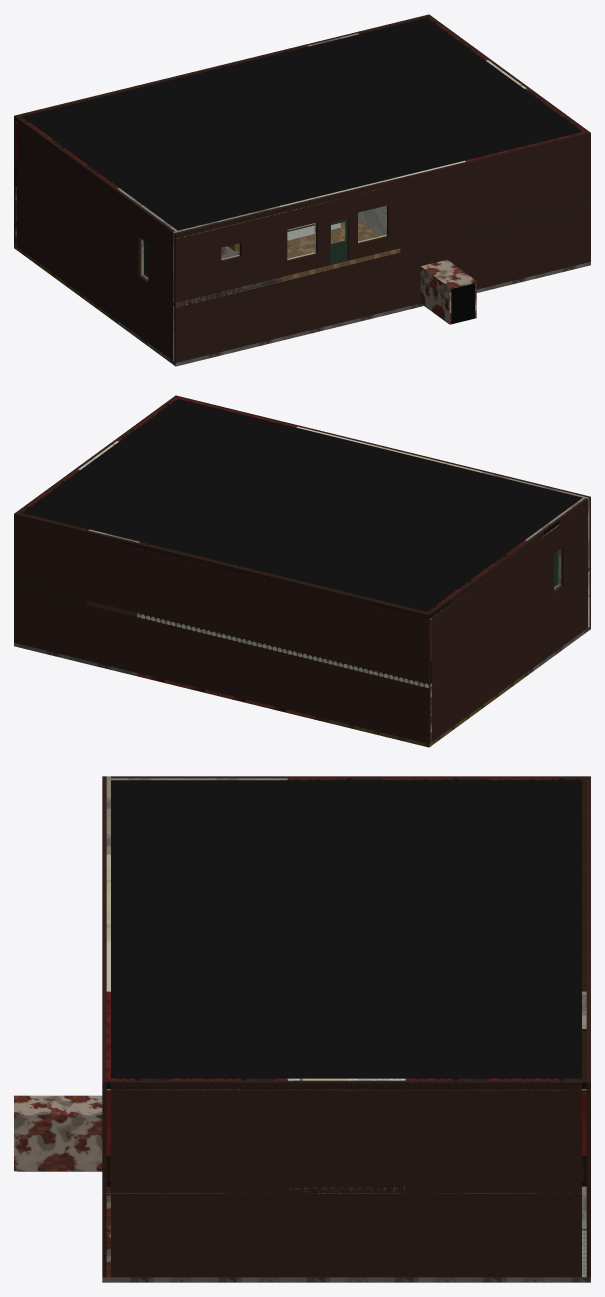
Rendered from abattoir.glb.
3 views of the same model, one above another, from view 1: azimuth 30°, elevation 25°; view 2: azimuth 150°, elevation 25°; view 3: azimuth 270°, elevation 25° (orthographic). The views are drawn at different scales.
Visible parts, largest first — view 1: Mesh_ext, Mesh_roof, Mesh_concrete, Mesh_brick2, Mesh_sp_wall, Mesh_glass13, Mesh_sawdust, Mesh_shop_wall, Mesh_pit, Mesh_lime, Mesh_carpet, Mesh_door; view 2: Mesh_ext, Mesh_roof, Mesh_sp_wall, Mesh_octagon, Mesh_straw, Mesh_concrete, Mesh_lime, Mesh_quarry; view 3: Mesh_roof, Mesh_ext, Mesh_brick2, Mesh_sp_wall, Mesh_concrete, Mesh_lime, Mesh_shop_wall.
Part boxes in pixels (x1,y1,x2,y2): Mesh_ext: (14, 14, 590, 362); Mesh_roof: (15, 18, 582, 236); Mesh_concrete: (114, 240, 590, 366); Mesh_brick2: (420, 259, 476, 324); Mesh_sp_wall: (15, 15, 588, 188); Mesh_glass13: (287, 206, 386, 259); Mesh_sawdust: (282, 219, 400, 281); Mesh_shop_wall: (279, 60, 526, 259); Mesh_pit: (451, 283, 474, 324); Mesh_lime: (117, 33, 358, 301); Mesh_carpet: (467, 201, 590, 235); Mesh_door: (330, 218, 347, 263); Mesh_ext: (14, 395, 590, 743); Mesh_roof: (22, 399, 590, 618); Mesh_sp_wall: (16, 396, 526, 682); Mesh_octagon: (137, 613, 431, 688); Mesh_straw: (323, 671, 529, 747); Mesh_concrete: (14, 563, 590, 676); Mesh_lime: (88, 472, 589, 584); Mesh_quarry: (137, 673, 322, 721); Mesh_roof: (102, 780, 590, 1088); Mesh_ext: (102, 776, 590, 1277); Mesh_brick2: (14, 1095, 102, 1171); Mesh_sp_wall: (106, 776, 586, 1186); Mesh_concrete: (102, 1277, 590, 1282); Mesh_lime: (106, 776, 586, 1028); Mesh_shop_wall: (106, 854, 405, 1080).
Size of the model in its own units: 24.6 by 7.5 by 19.6.
108 materials, 32 textured.
